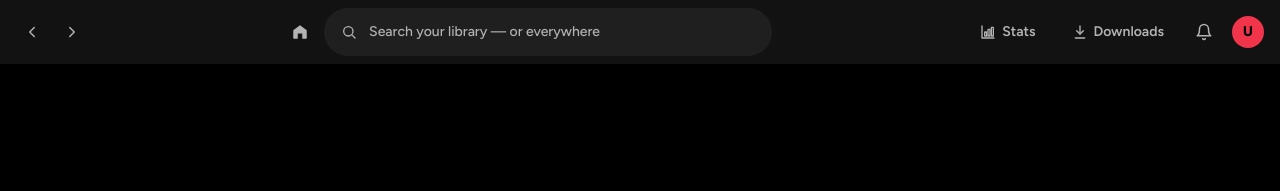
Scenario: TopBar › Admin menu item is shown when the user is an admin
This screenshot has width=1280, height=191.
Click the button "U": (1248, 32) [1232,16,1264,48]
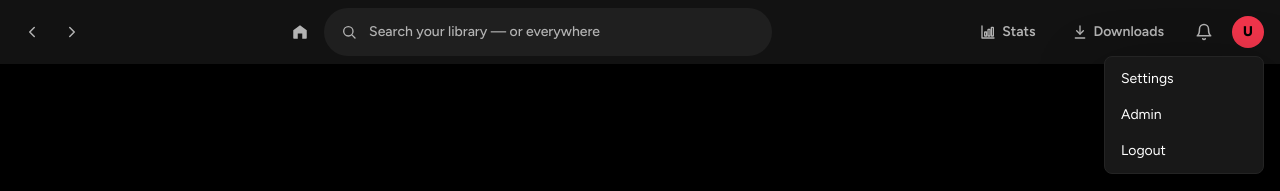
Now the menu item "Admin" is shown, box [1105,97,1263,133]
